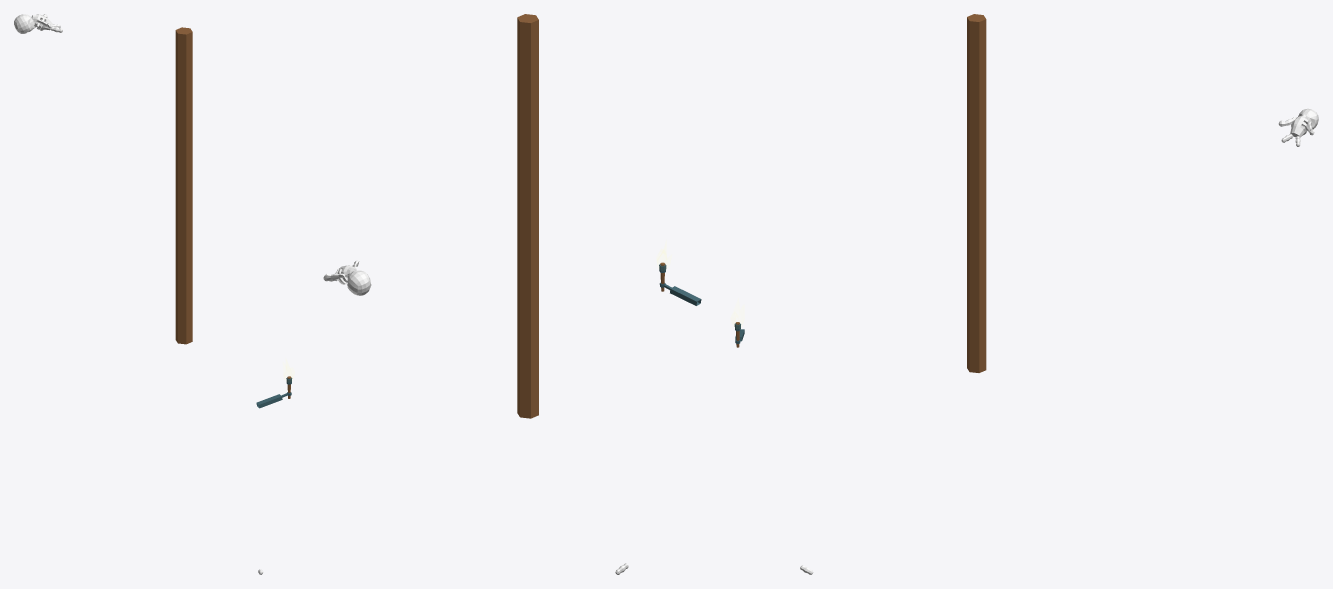
The picture shows the model from 3 angles, left to right: view 1: azimuth 30°, elevation 25°; view 2: azimuth 150°, elevation 25°; view 3: azimuth 270°, elevation 25°; orthographic projection. The views are drawn at different scales.
Visible parts, largest first — view 1: Cylinder1491_brown_0; view 2: Cylinder1491_brown_0, Head150_white_0; view 3: Cylinder1491_brown_0.
Part boxes in pixels (x1=…): Cylinder1491_brown_0: x1=175, y1=27, x2=192, y2=344; Cylinder1491_brown_0: x1=517, y1=14, x2=538, y2=418; Head150_white_0: x1=347, y1=270, x2=371, y2=295; Cylinder1491_brown_0: x1=967, y1=14, x2=986, y2=372.
Size of the model in its own units: 185 by 1776 by 1706.
